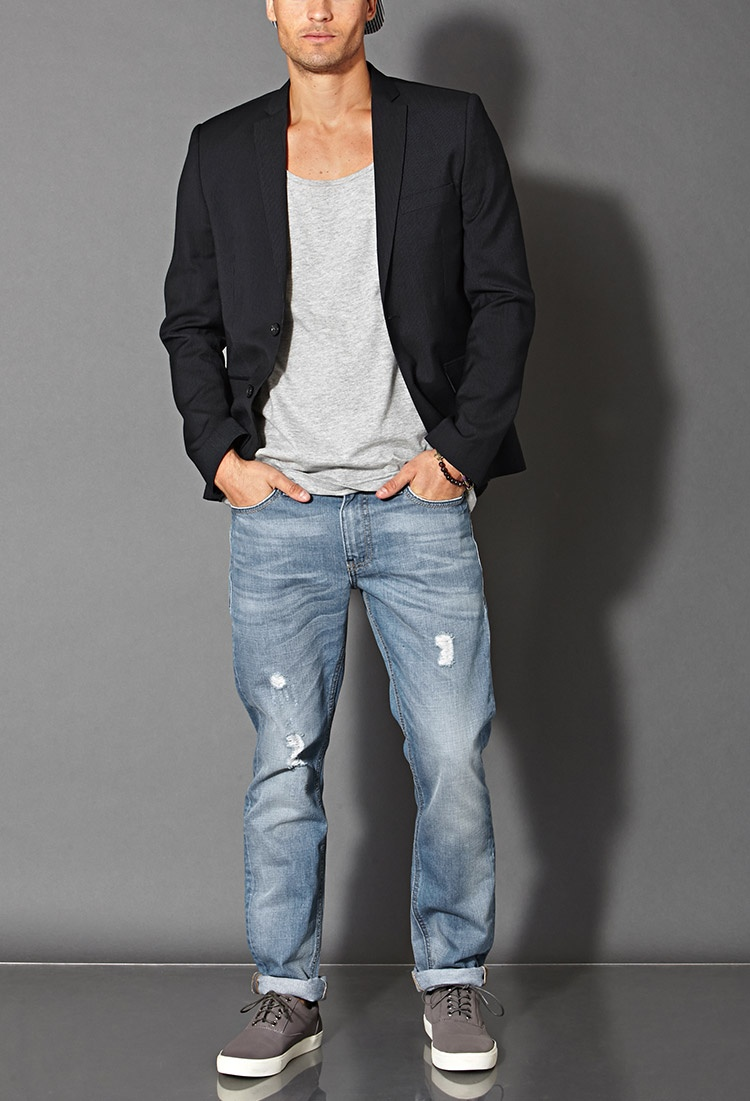C_sneakers: (209, 993, 501, 1081)
F_M_suit jacket: (162, 82, 535, 478)
